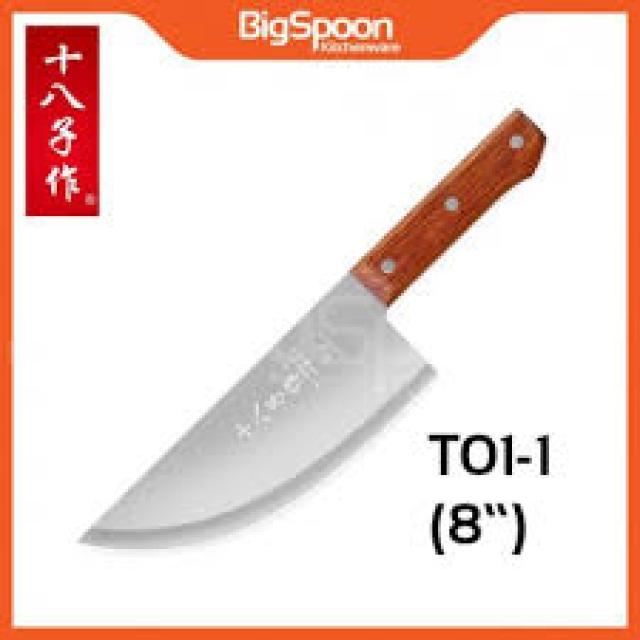Knife: (77, 108, 546, 546)
